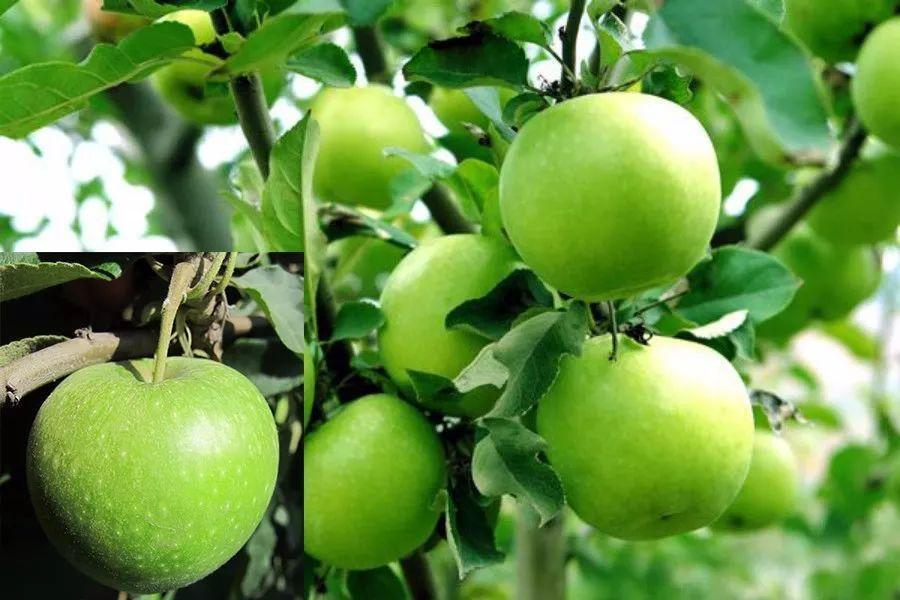apple: (22, 342, 278, 590), (496, 89, 717, 302), (539, 332, 754, 542), (374, 228, 530, 412), (301, 389, 445, 564), (304, 82, 442, 223)
